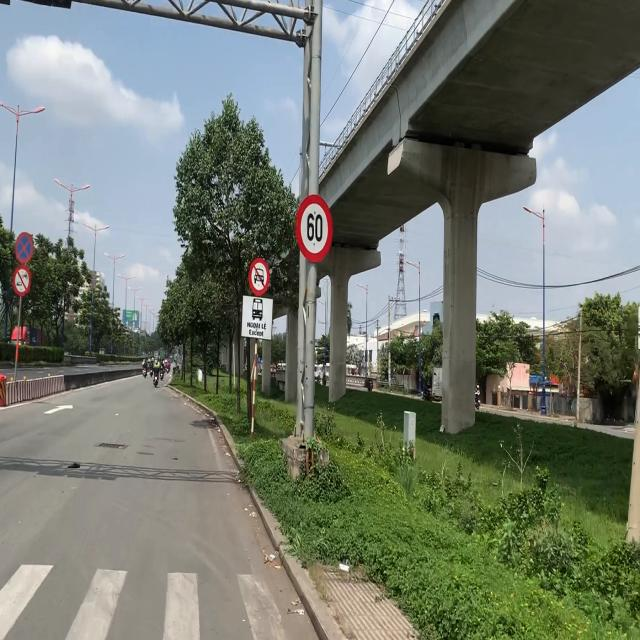Cam con lai: (250, 255, 268, 297)
Cam dung va do: (13, 230, 34, 264)
Toc do toi da: (296, 196, 332, 264)
